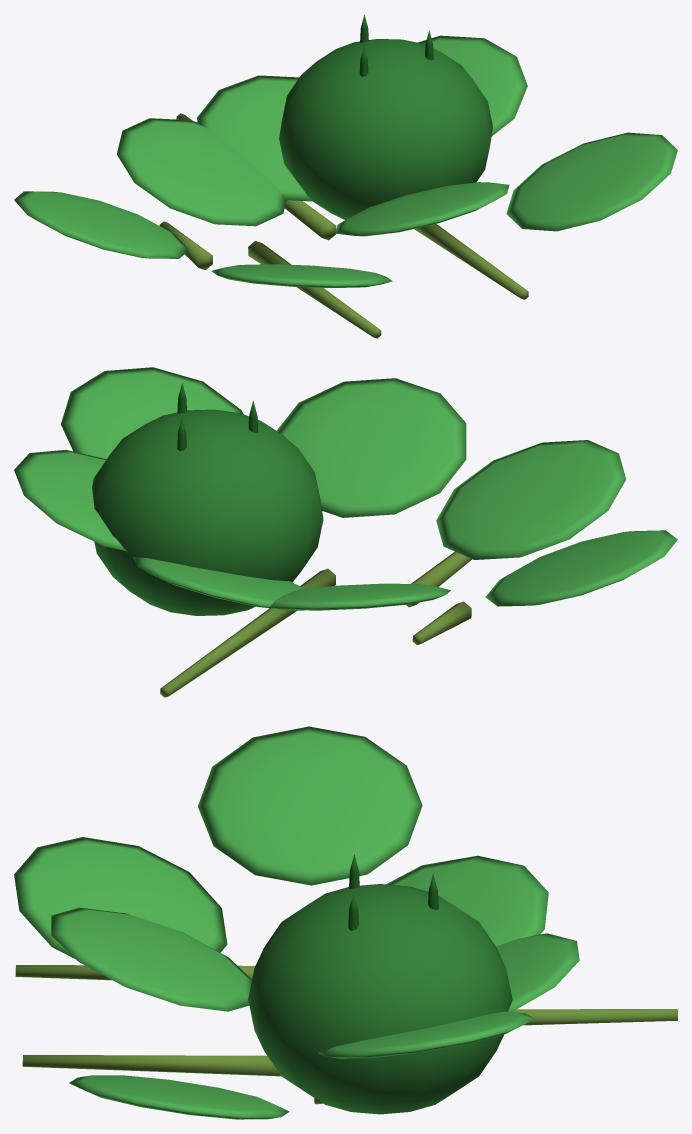
File: vine_round.glb
3 views of the same model, one above another, from view 1: azimuth 30°, elevation 25°; view 2: azimuth 150°, elevation 25°; view 3: azimuth 270°, elevation 25° (orthographic). The views are drawn at different scales.
Visible parts, largest first — view 1: Leaf, Fruit, Stem; view 2: Leaf, Fruit, Stem; view 3: Leaf, Fruit, Stem.
Boxes of the visible parts, x1,y1,x2,y2 form: Leaf: (14, 35, 677, 287); Fruit: (279, 14, 492, 219); Stem: (159, 113, 528, 338); Leaf: (14, 367, 677, 610); Fruit: (92, 383, 323, 615); Stem: (160, 551, 472, 697); Leaf: (14, 726, 579, 1119); Fruit: (248, 854, 512, 1114); Stem: (15, 965, 677, 1104).
Size of the model in its own units: 1.26 by 0.38 by 1.
